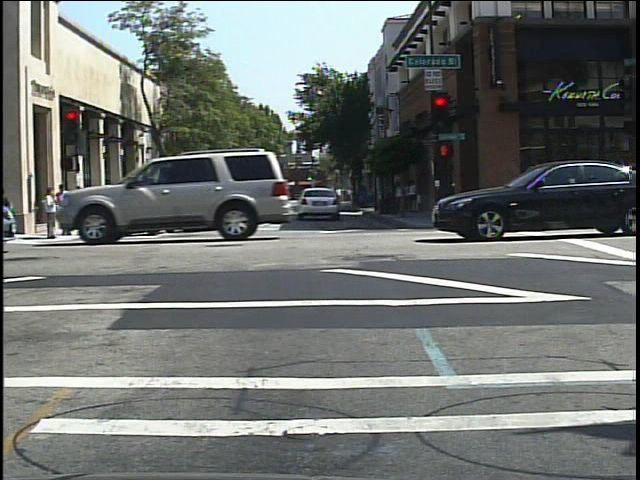person: (178, 181, 195, 218), (132, 185, 147, 215), (88, 185, 93, 229)
